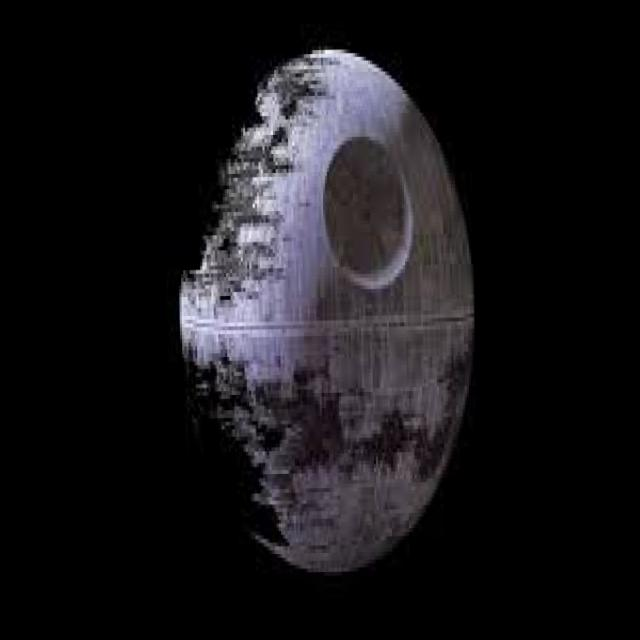deathStar: (172, 38, 480, 582)
